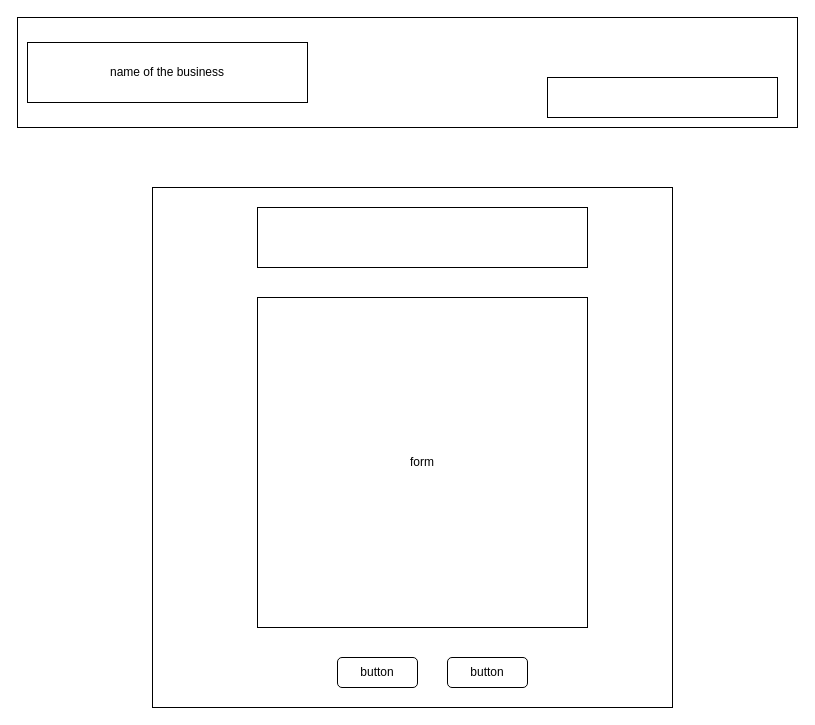
Image size: 815x725. Some labels were removed from this diagram. Here are the shapes that lost their labels. From the top down, the centre of each, then its label:
(x=662, y=97): nave bar
(x=422, y=237): heading
